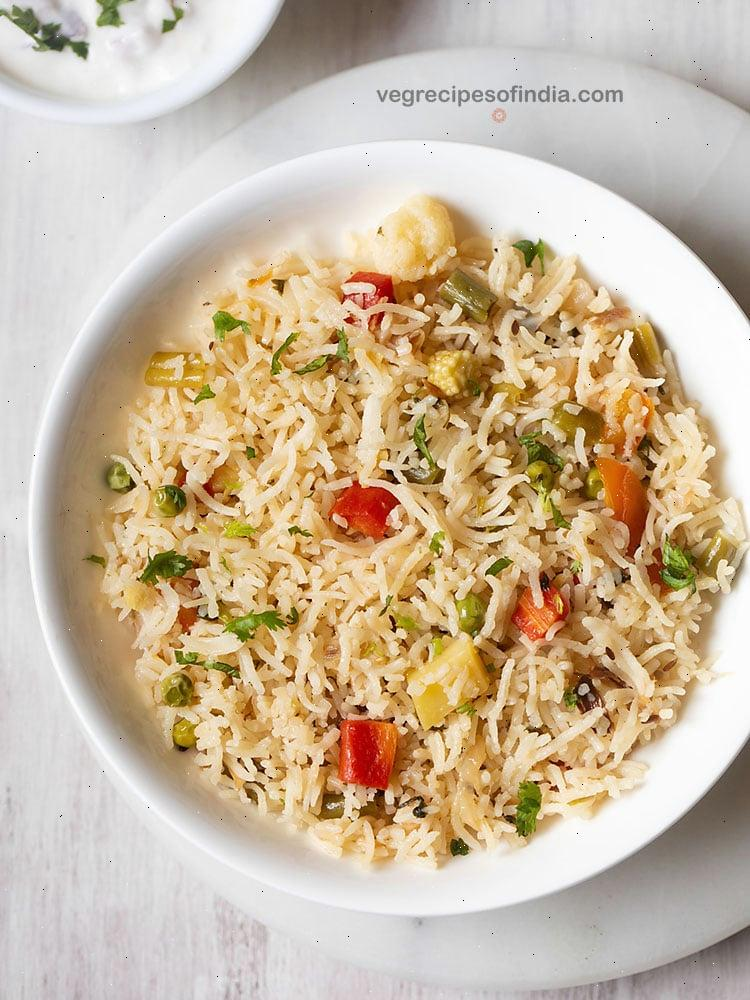veg-pulao: (148, 208, 687, 815)
